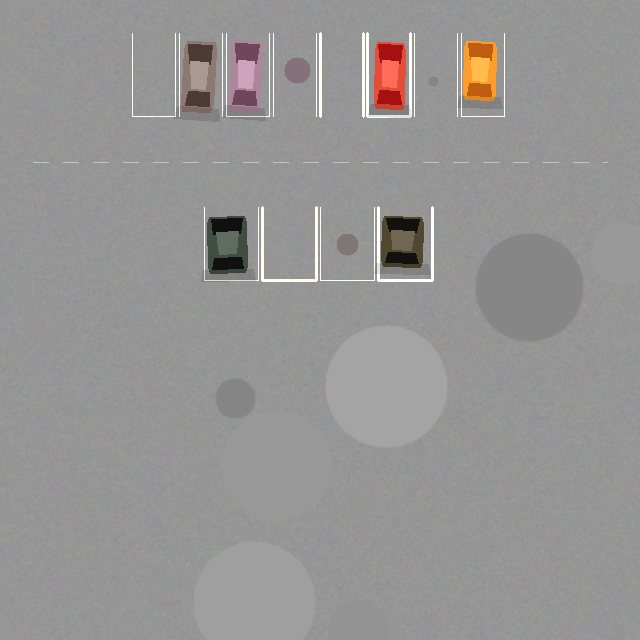space-empty: (262, 207, 316, 280), (320, 207, 374, 280), (132, 33, 175, 116), (273, 33, 316, 116), (320, 33, 363, 116), (414, 33, 457, 116)
space-occupied: (204, 207, 258, 280), (378, 207, 432, 280), (179, 33, 222, 116), (226, 33, 269, 116), (367, 33, 410, 116), (461, 33, 504, 116)
